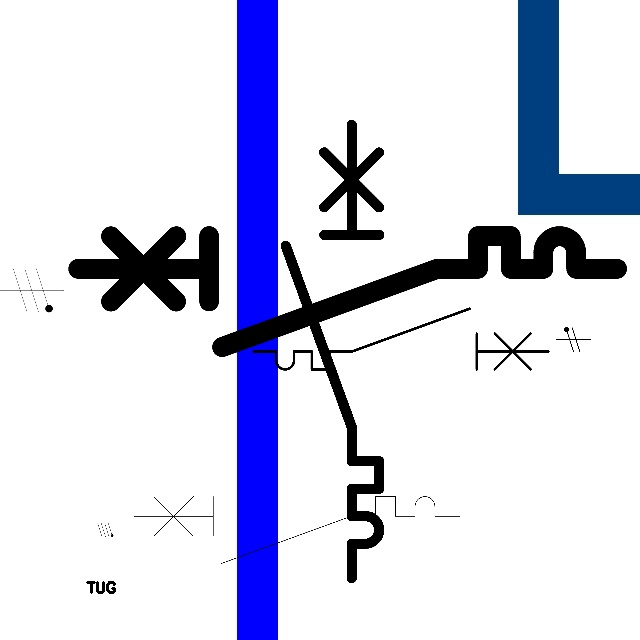interruptor_termomagnetico: (64, 222, 631, 361), (274, 113, 391, 590), (125, 488, 467, 571), (246, 301, 556, 377)
